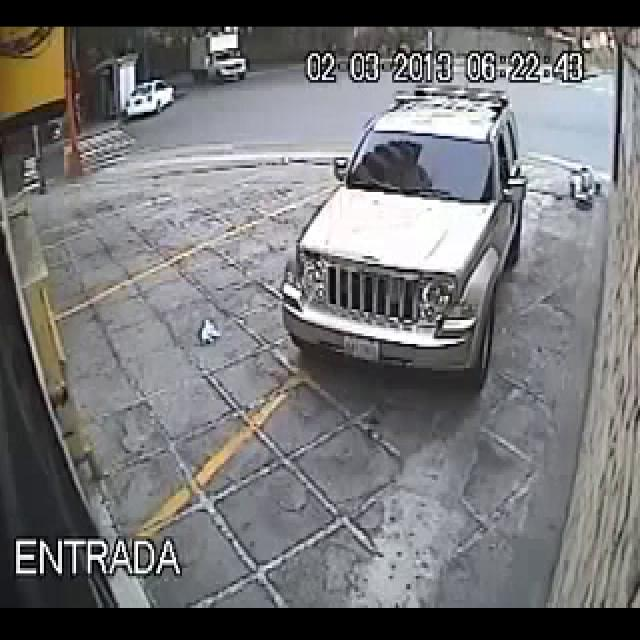shooting: (351, 79, 636, 413)
